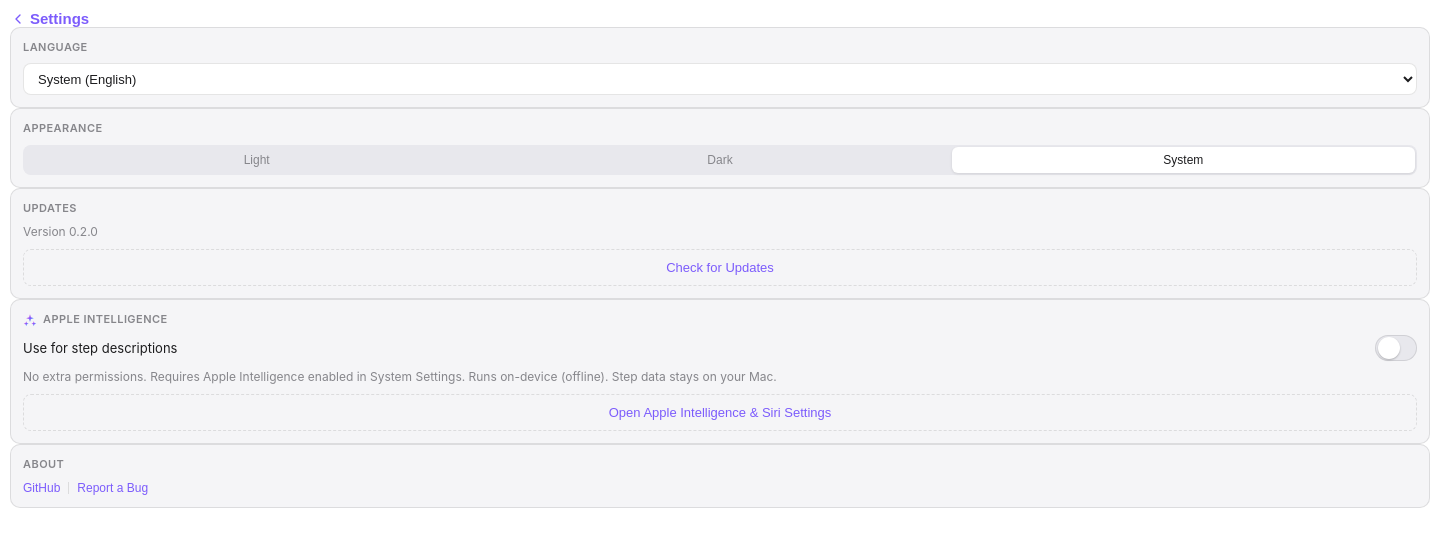
Test: SettingsSheet › shows error when update check fails
What coordinates should you click on to do the following:
click the button "Check for Updates"
I would click on:
 (720, 268)
Its box is [23,249,1417,286].
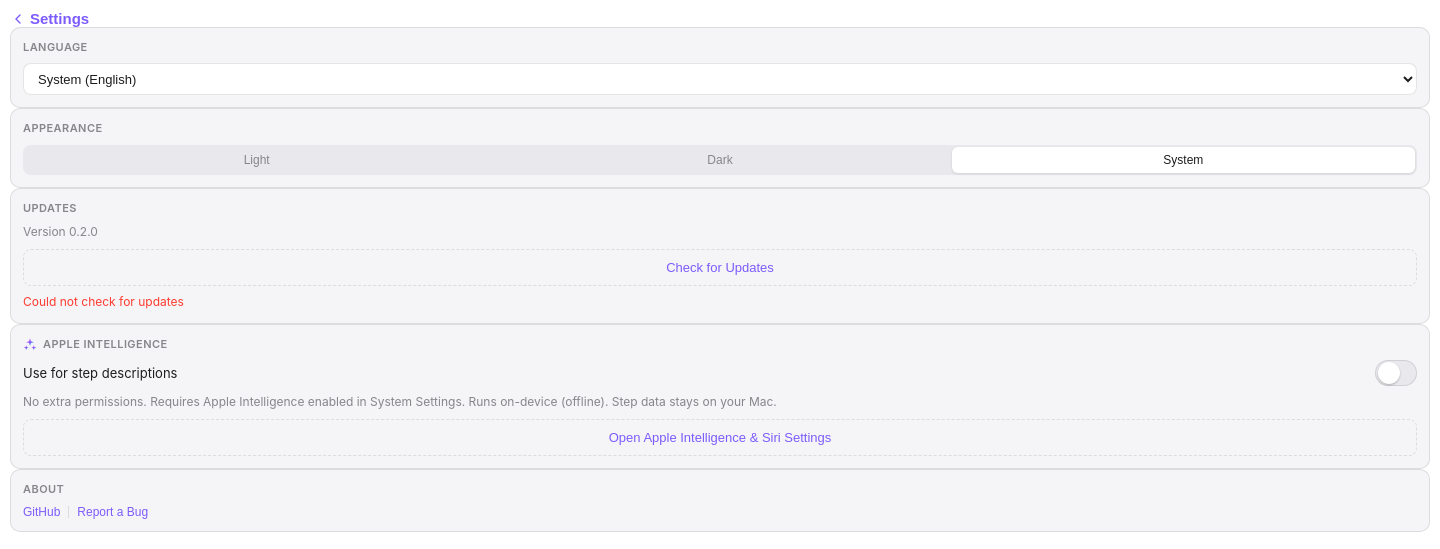
Expected: the text "Could not check for updates" is shown, [23,294,184,309]
